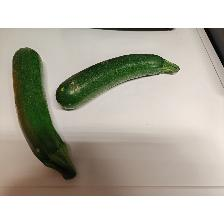Zucchini: (10, 46, 78, 182), (55, 52, 181, 111)
